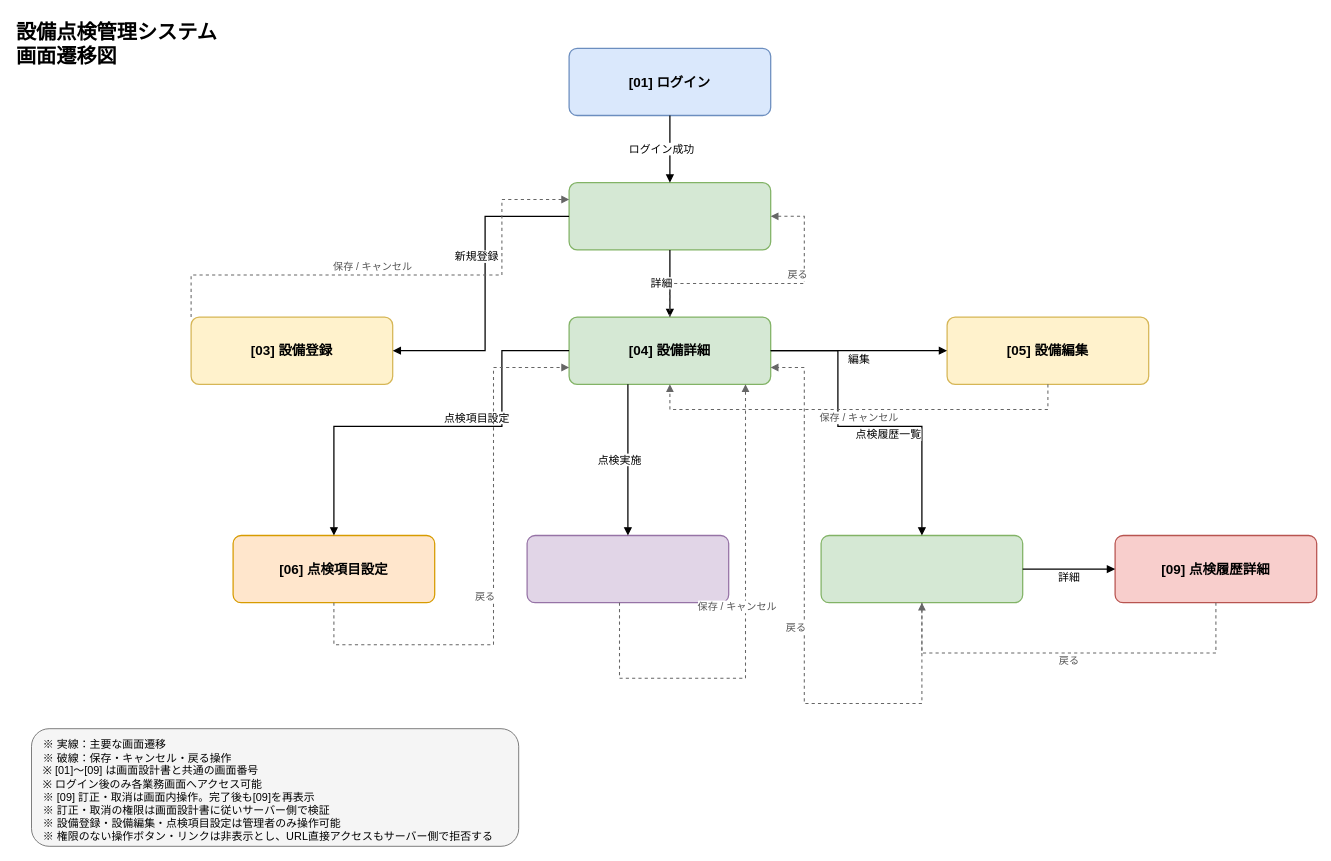
This 1331x861 diagram has some shape labels left out. The shapes that lost their labels are listed below. From the top down, each one's centre as x and y in pixels, then its label:
(669,216): [02] 設備一覧
(627,568): [07] 点検実施
(921,568): [08] 点検履歴一覧
